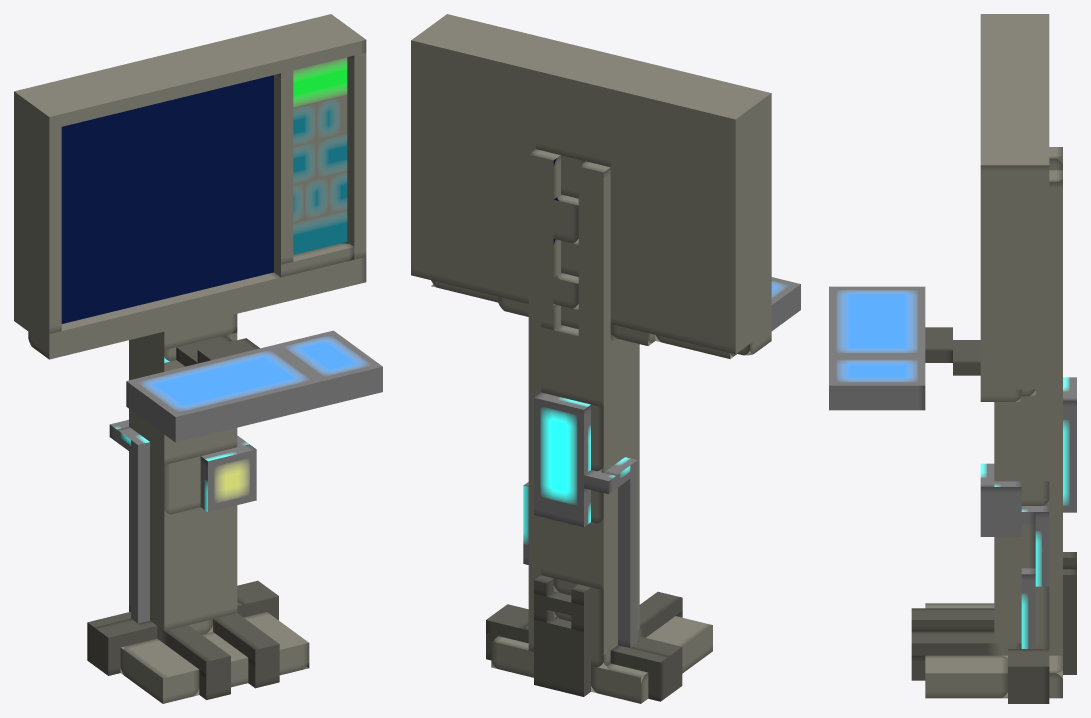
File: EKG_komputer_lekarski.dae
3 views of the same model, side by side, from view 1: azimuth 30°, elevation 25°; view 2: azimuth 150°, elevation 25°; view 3: azimuth 270°, elevation 25° (orthographic). The views are drawn at different scales.
Visible parts, largest first — view 1: Content; view 2: Content; view 3: Content.
Part boxes in pixels (box(x1,y1,x2,y2)): Content: box(14, 14, 382, 703); Content: box(411, 14, 800, 703); Content: box(829, 14, 1076, 703).
Bounding box in the file's own units: 26 × 46 × 18.
Materials: 1 (1 with a texture image).
